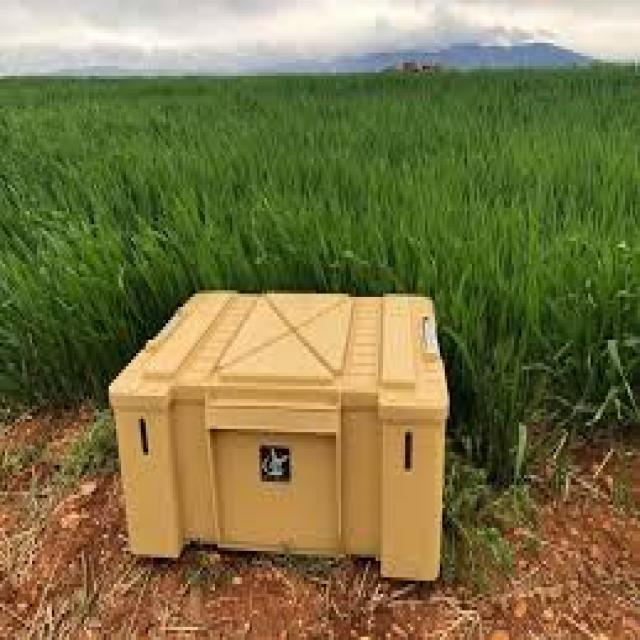basket: (108, 292, 451, 581)
